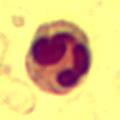eosi: (22, 17, 93, 97)
